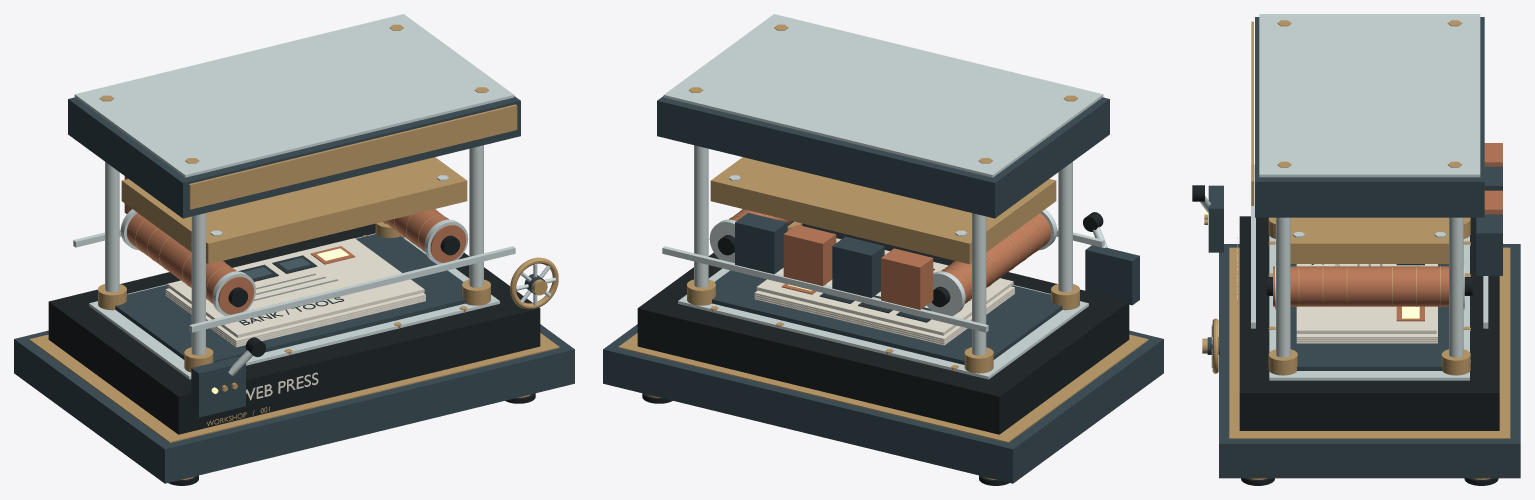
File: web-press-original.glb
3 renders of one model, left to right at view 1: azimuth 30°, elevation 25°; view 2: azimuth 150°, elevation 25°; view 3: azimuth 270°, elevation 25°, orthographic.
Visible parts, largest first — view 1: Upper edge accent, Ceramic precision bed, Chassis / freestanding collector plinth, PLATEN__ANIMATED, Upper force beam / suspended gantry, Clamping platform, Gantry / outer brass guide stripe, PAPER__ANIMATED__MASTER_SHEET, Solid brushed bronze perimeter / lower, Lapped steel insert / printable bed, Copper ink roller / embossed.001, Horizontal chrome rail (+10 smaller); view 2: Upper edge accent, Ceramic precision bed, Chassis / freestanding collector plinth, Upper force beam / suspended gantry, PLATEN__ANIMATED, Clamping platform, Solid brushed bronze perimeter / lower, Lapped steel insert / printable bed, PAPER__ANIMATED__MASTER_SHEET, Copper ink roller / embossed.001, Stored type die 0, Stored type die 2 (+14 smaller); view 3: Upper edge accent, Ceramic precision bed, Chassis / freestanding collector plinth, Upper force beam / suspended gantry, PLATEN__ANIMATED, Copper ink roller / embossed, Solid brushed bronze perimeter / lower, Clamping platform, PAPER__ANIMATED__MASTER_SHEET, Lapped steel insert / printable bed, Polished structural guide.002, Polished structural guide.003 (+13 smaller).
Boxes of the visible parts, bbox=[...] form: Upper edge accent: bbox=[74, 14, 514, 177]; Ceramic precision bed: bbox=[48, 223, 540, 434]; Chassis / freestanding collector plinth: bbox=[14, 324, 574, 483]; PLATEN__ANIMATED: bbox=[121, 157, 467, 264]; Upper force beam / suspended gantry: bbox=[68, 96, 520, 218]; Clamping platform: bbox=[115, 234, 465, 362]; Gantry / outer brass guide stripe: bbox=[189, 104, 517, 209]; PAPER__ANIMATED__MASTER_SHEET: bbox=[167, 238, 424, 337]; Solid brushed bronze perimeter / lower: bbox=[29, 333, 559, 442]; Lapped steel insert / printable bed: bbox=[89, 233, 499, 379]; Copper ink roller / embossed.001: bbox=[127, 213, 254, 314]; Horizontal chrome rail: bbox=[189, 246, 515, 332]; Upper edge accent: bbox=[663, 14, 1103, 177]; Ceramic precision bed: bbox=[637, 223, 1129, 434]; Chassis / freestanding collector plinth: bbox=[603, 324, 1163, 483]; Upper force beam / suspended gantry: bbox=[657, 96, 1109, 218]; PLATEN__ANIMATED: bbox=[710, 157, 1056, 264]; Clamping platform: bbox=[712, 270, 1062, 364]; Solid brushed bronze perimeter / lower: bbox=[618, 333, 1148, 442]; Lapped steel insert / printable bed: bbox=[678, 268, 1088, 379]; PAPER__ANIMATED__MASTER_SHEET: bbox=[756, 238, 1013, 335]; Copper ink roller / embossed.001: bbox=[941, 213, 1050, 303]; Stored type die 0: bbox=[881, 248, 933, 309]; Stored type die 2: bbox=[783, 224, 836, 286]; Upper edge accent: bbox=[1259, 14, 1480, 177]; Ceramic precision bed: bbox=[1239, 216, 1499, 430]; Chassis / freestanding collector plinth: bbox=[1219, 244, 1520, 478]; Upper force beam / suspended gantry: bbox=[1255, 17, 1484, 217]; PLATEN__ANIMATED: bbox=[1290, 217, 1448, 263]; Copper ink roller / embossed: bbox=[1273, 266, 1448, 306]; Solid brushed bronze perimeter / lower: bbox=[1229, 247, 1510, 438]; Clamping platform: bbox=[1290, 264, 1448, 370]; PAPER__ANIMATED__MASTER_SHEET: bbox=[1296, 264, 1436, 333]; Lapped steel insert / printable bed: bbox=[1269, 236, 1469, 380]; Polished structural guide.002: bbox=[1276, 217, 1290, 357]; Polished structural guide.003: bbox=[1449, 217, 1463, 357].
Bounding box in the file's own units: 7.5 × 5.29 × 5.2.
